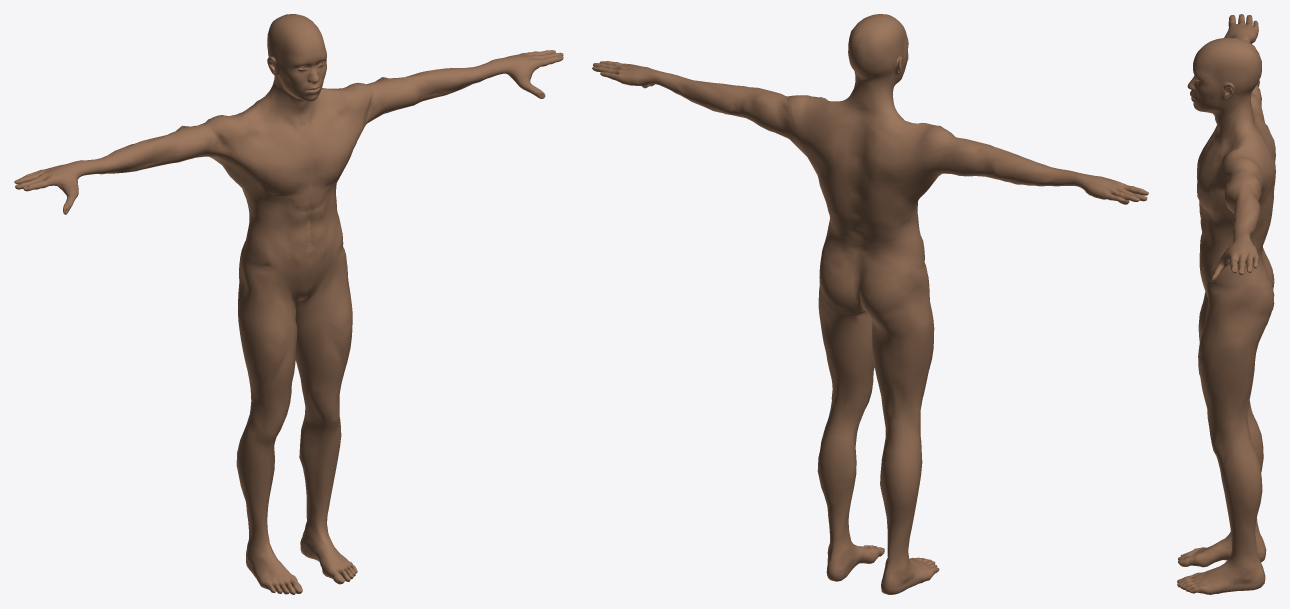
The model's file is body01-m-export-to-mixamo-TPose.FBX.
The picture shows the model from 3 angles, left to right: view 1: azimuth 30°, elevation 25°; view 2: azimuth 150°, elevation 25°; view 3: azimuth 270°, elevation 25°; orthographic projection. The views are drawn at different scales.
Visible parts, largest first — view 1: Perso; view 2: Perso; view 3: Perso.
Boxes of the visible parts, <box> form: Perso: <box>14,14,563,594</box>; Perso: <box>592,14,1148,594</box>; Perso: <box>1177,14,1275,594</box>.
Size of the model in its own units: 202 by 195 by 32.65.
